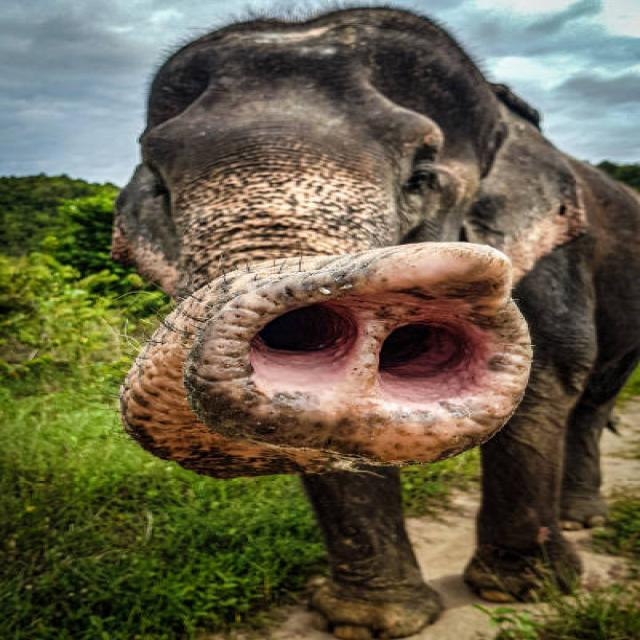Elephant: (102, 2, 640, 634)
